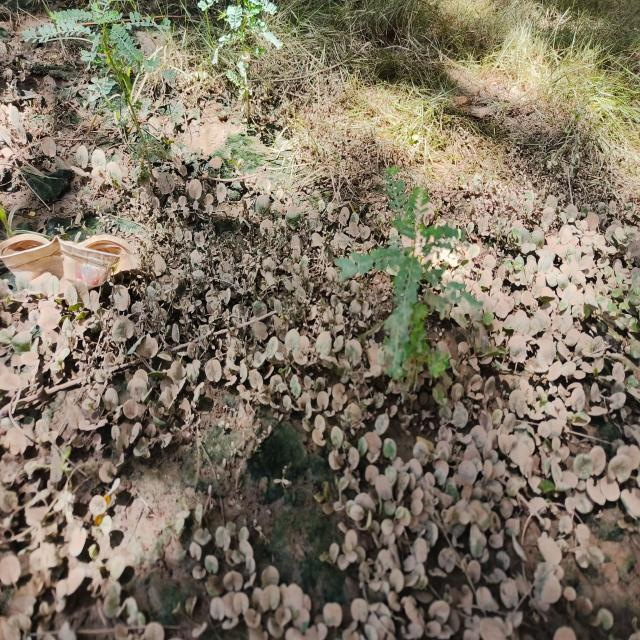weed: (322, 146, 497, 396), (40, 13, 178, 172), (209, 0, 285, 98)
